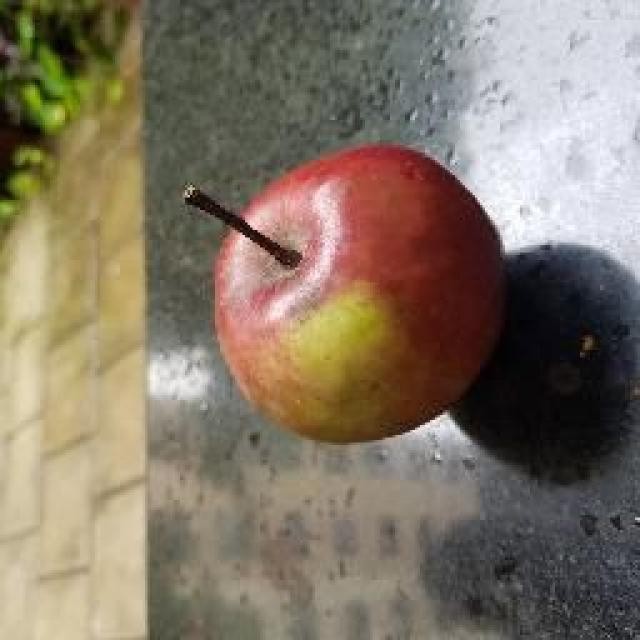Good_Apple: (182, 145, 510, 448)
